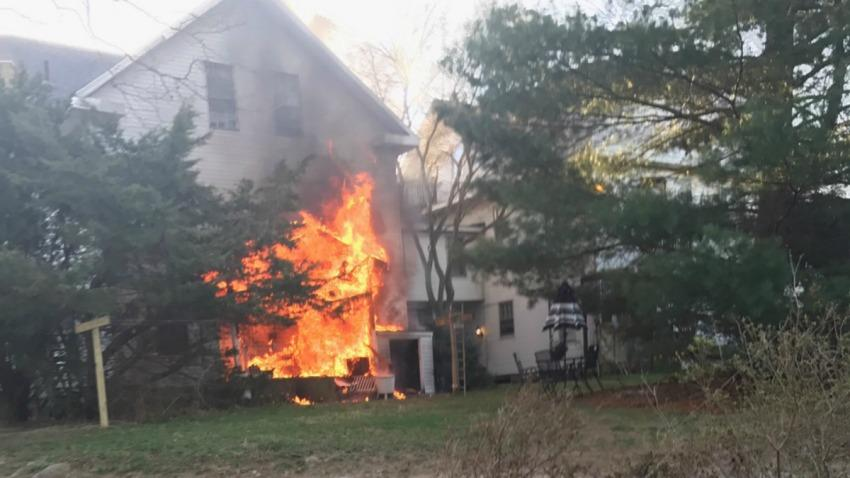fire: (204, 171, 402, 379), (294, 396, 313, 405), (393, 391, 407, 400)
